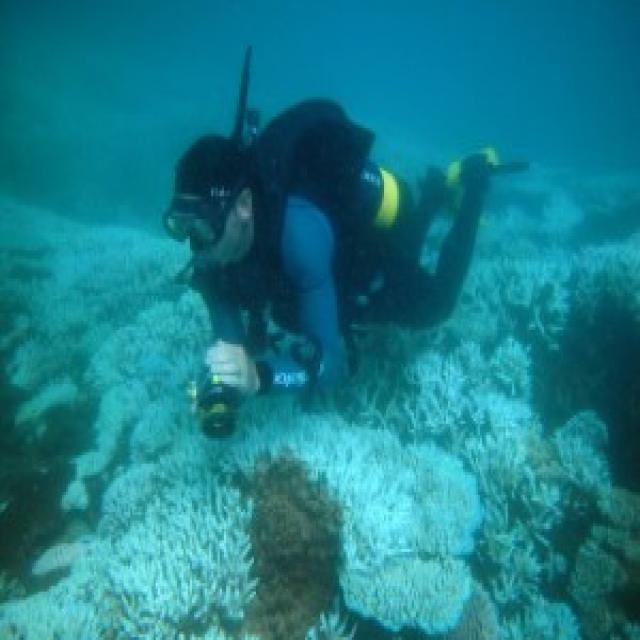Bleached: (306, 400, 640, 640), (1, 354, 244, 640), (1, 191, 211, 354), (451, 168, 640, 331), (418, 332, 526, 405), (260, 398, 364, 457)
Healthy: (253, 460, 339, 640), (552, 305, 640, 416), (4, 425, 64, 547), (580, 205, 640, 237)
